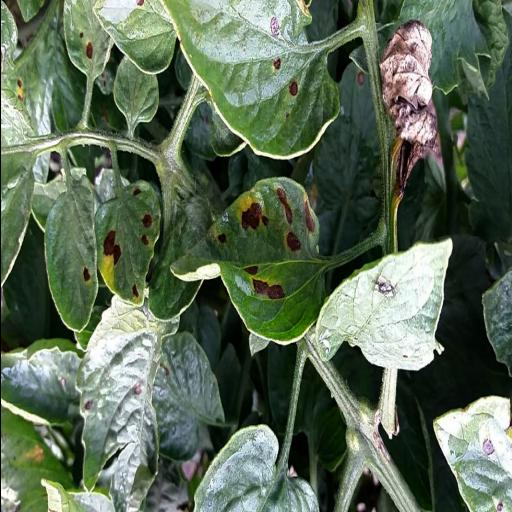disease_tomato: (164, 176, 328, 346), (95, 182, 161, 304)
